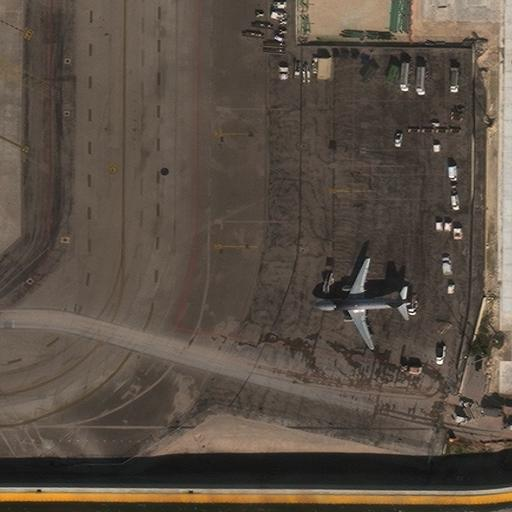Medium Civil Transport: (305, 257, 410, 352)
